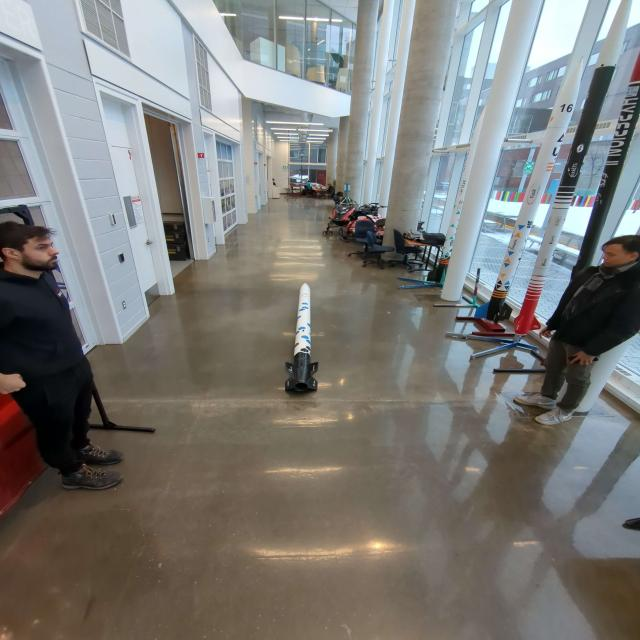Rocket: (514, 0, 633, 335), (474, 55, 584, 325), (569, 51, 640, 285), (426, 104, 489, 285), (285, 283, 319, 391)
